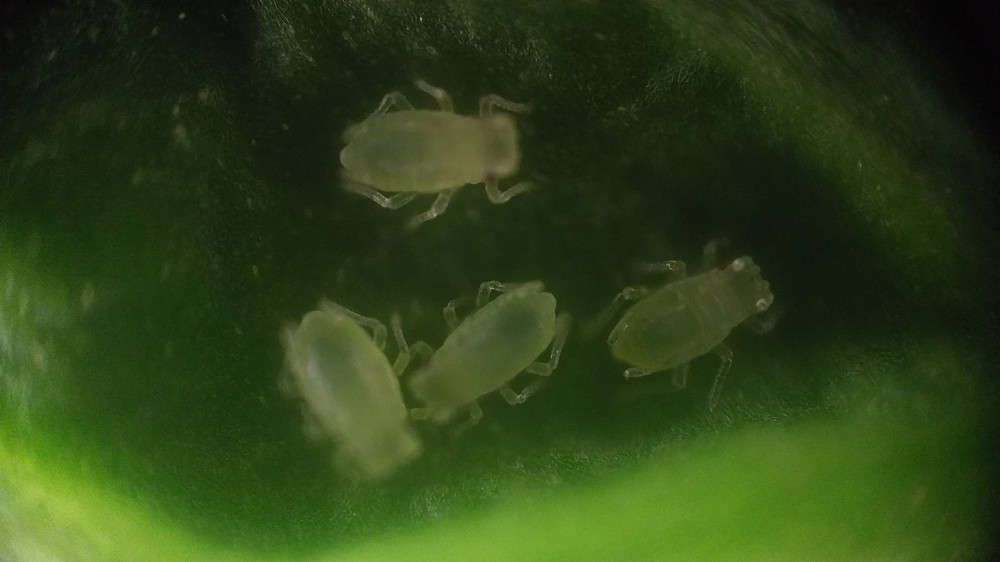Pulgon: (591, 222, 795, 425), (254, 291, 444, 493), (323, 62, 553, 226), (399, 266, 579, 441)
